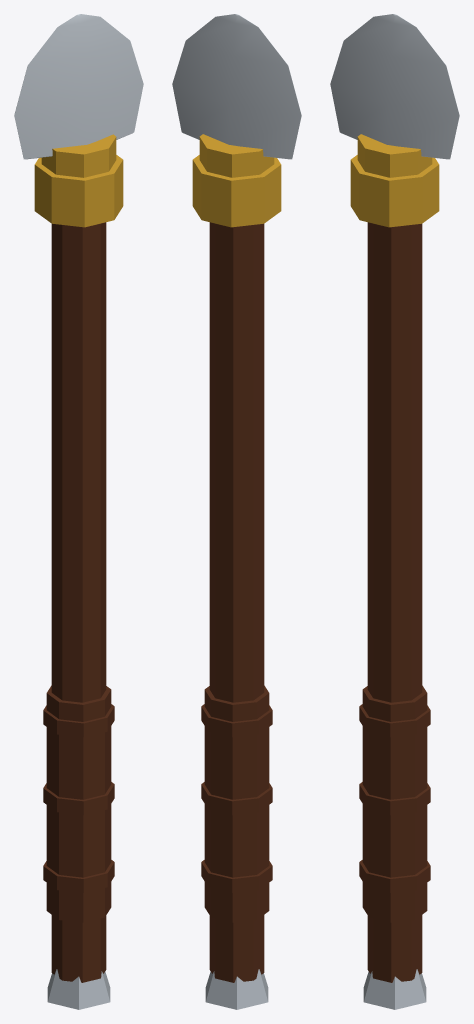
The model's file is spear.glb.
3 renders of one model, left to right at view 1: azimuth 30°, elevation 25°; view 2: azimuth 150°, elevation 25°; view 3: azimuth 330°, elevation 25°, orthographic.
Visible parts, largest first — view 1: wpn_spear_lod0; view 2: wpn_spear_lod0; view 3: wpn_spear_lod0.
Boxes of the visible parts, bbox=[...] form: wpn_spear_lod0: bbox=[14, 14, 143, 1009]; wpn_spear_lod0: bbox=[172, 14, 301, 1009]; wpn_spear_lod0: bbox=[330, 14, 459, 1009].
Size of the model in its own units: 0.1739 by 1.26 by 0.0961.
